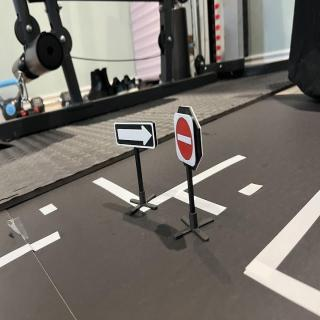sign_noentry: (175, 113, 197, 170)
sign_oneway_right: (114, 123, 160, 150)
